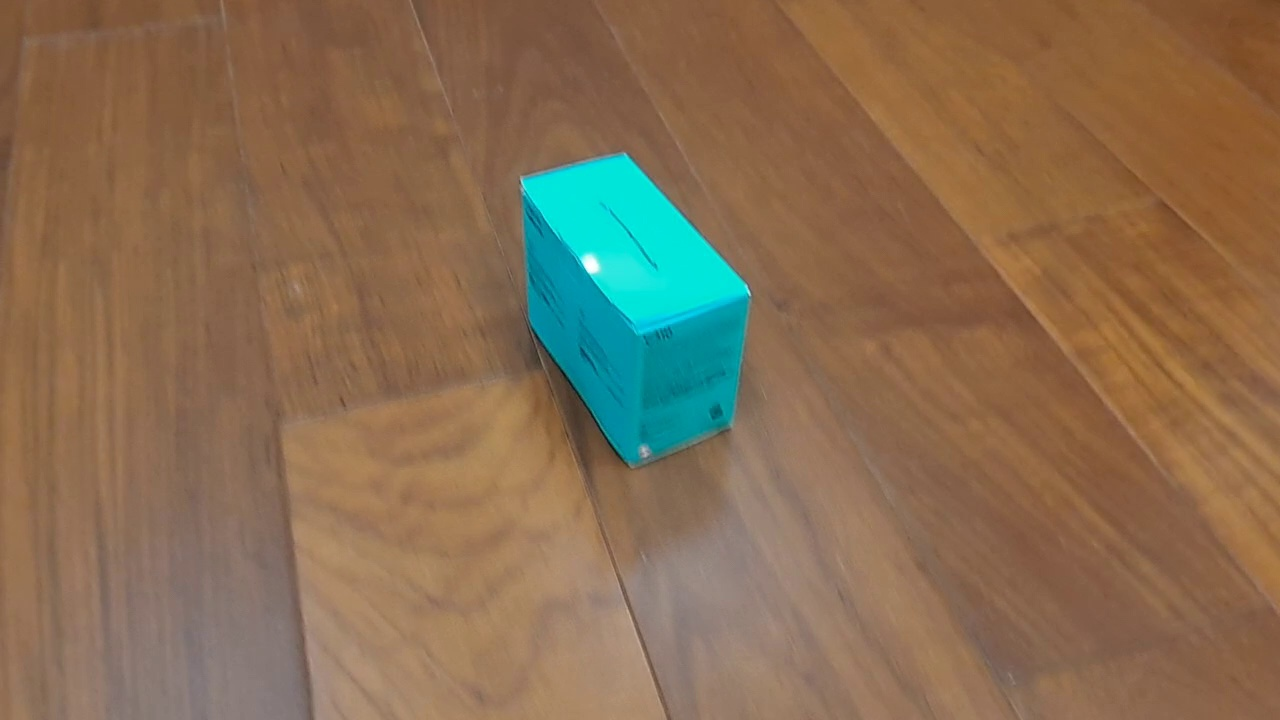webcam: (518, 150, 753, 472)
